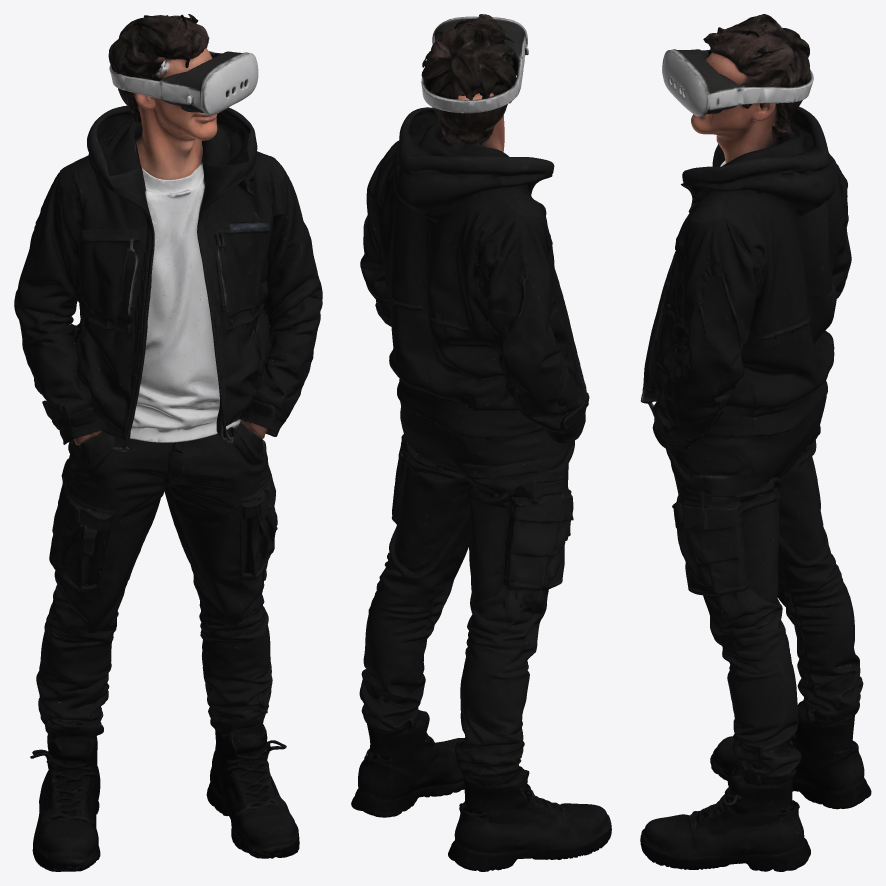
File: hero-robot.glb
3 views of the same model, side by side, from view 1: azimuth 30°, elevation 25°; view 2: azimuth 150°, elevation 25°; view 3: azimuth 270°, elevation 25° (orthographic). The views are drawn at different scales.
Visible parts, largest first — view 1: geometry_0; view 2: geometry_0; view 3: geometry_0.
Boxes of the visible parts, x1,y1,x2,y2 form: geometry_0: (14,14,322,871); geometry_0: (351,14,611,871); geometry_0: (640,14,871,871).
Size of the model in its own units: 0.331 by 0.9998 by 0.2604.
1 material, 1 textured.
